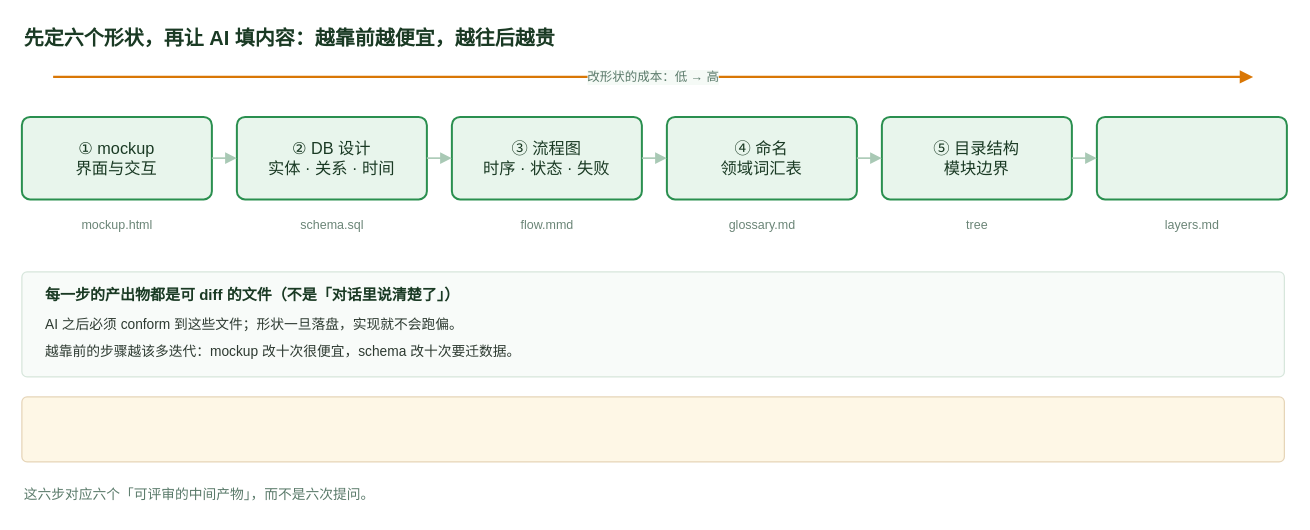
The diagram is 1310 pixels wide and 530 high, and some of its shapes have lost their labels. Here are the shapes that lost their labels. From the top down, the centre of each, then its label:
At [1191,157]: "⑥ 系统层次 依赖方向".
At [652,429]: "反模式：先写码再补 mockup · 让 AI 一次出整套设计（无法逐个 review） · 形状只活在对话里 · 命名与目录交给 AI 自由发挥".
